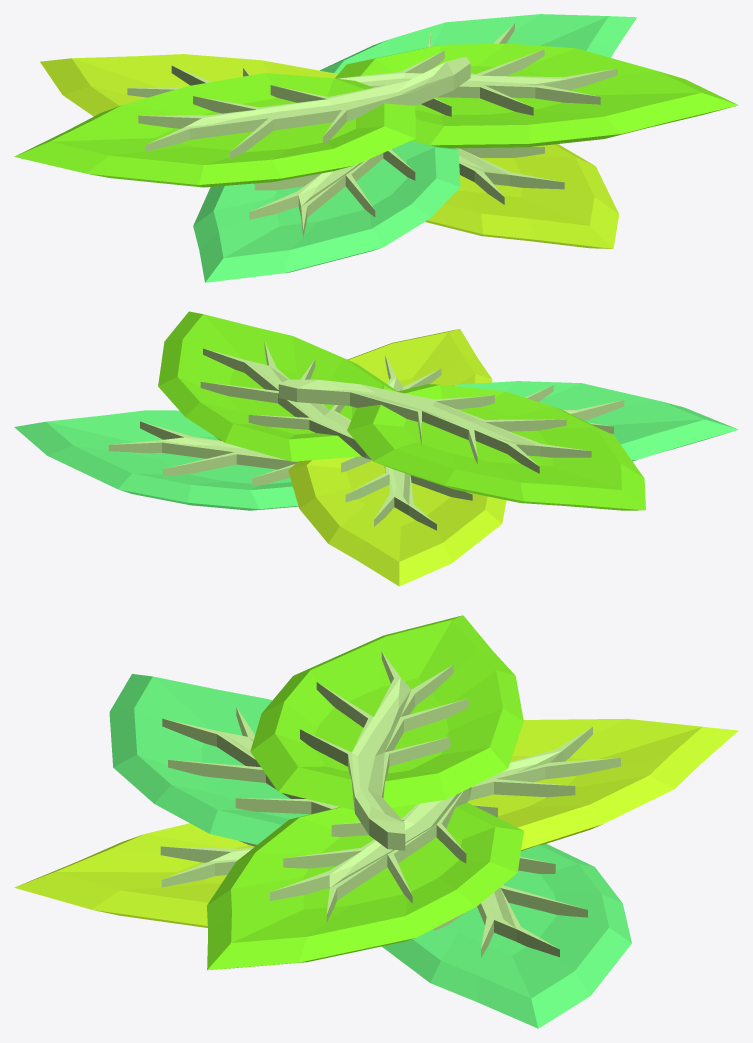
The model's file is item_leaves.fbx.
The picture shows the model from 3 angles, top to bottom: view 1: azimuth 30°, elevation 25°; view 2: azimuth 150°, elevation 25°; view 3: azimuth 270°, elevation 25°; orthographic projection. The views are drawn at different scales.
Parts seen in each view (by area): view 1: Cylinder.001; view 2: Cylinder.001; view 3: Cylinder.001.
Boxes of the visible parts, <box> form: Cylinder.001: <box>14,14,738,282</box>; Cylinder.001: <box>14,311,738,586</box>; Cylinder.001: <box>14,615,738,1028</box>.
Size of the model in its own units: 230 by 23.75 by 194.
